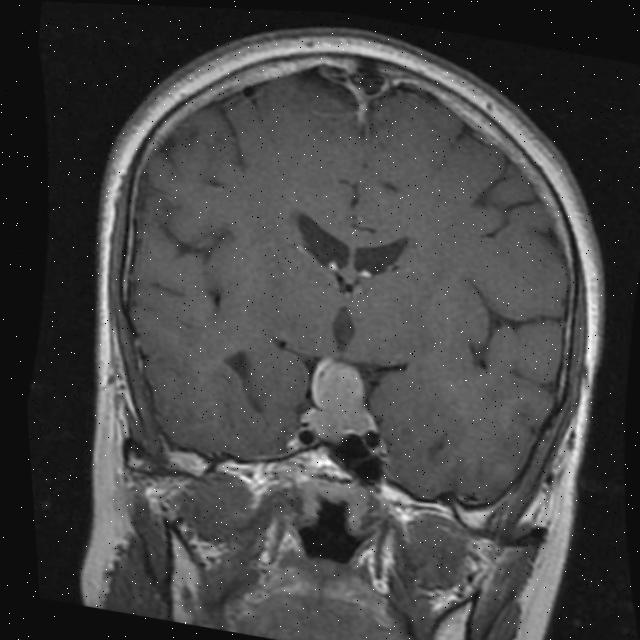Pituitary: (302, 355, 378, 446)
